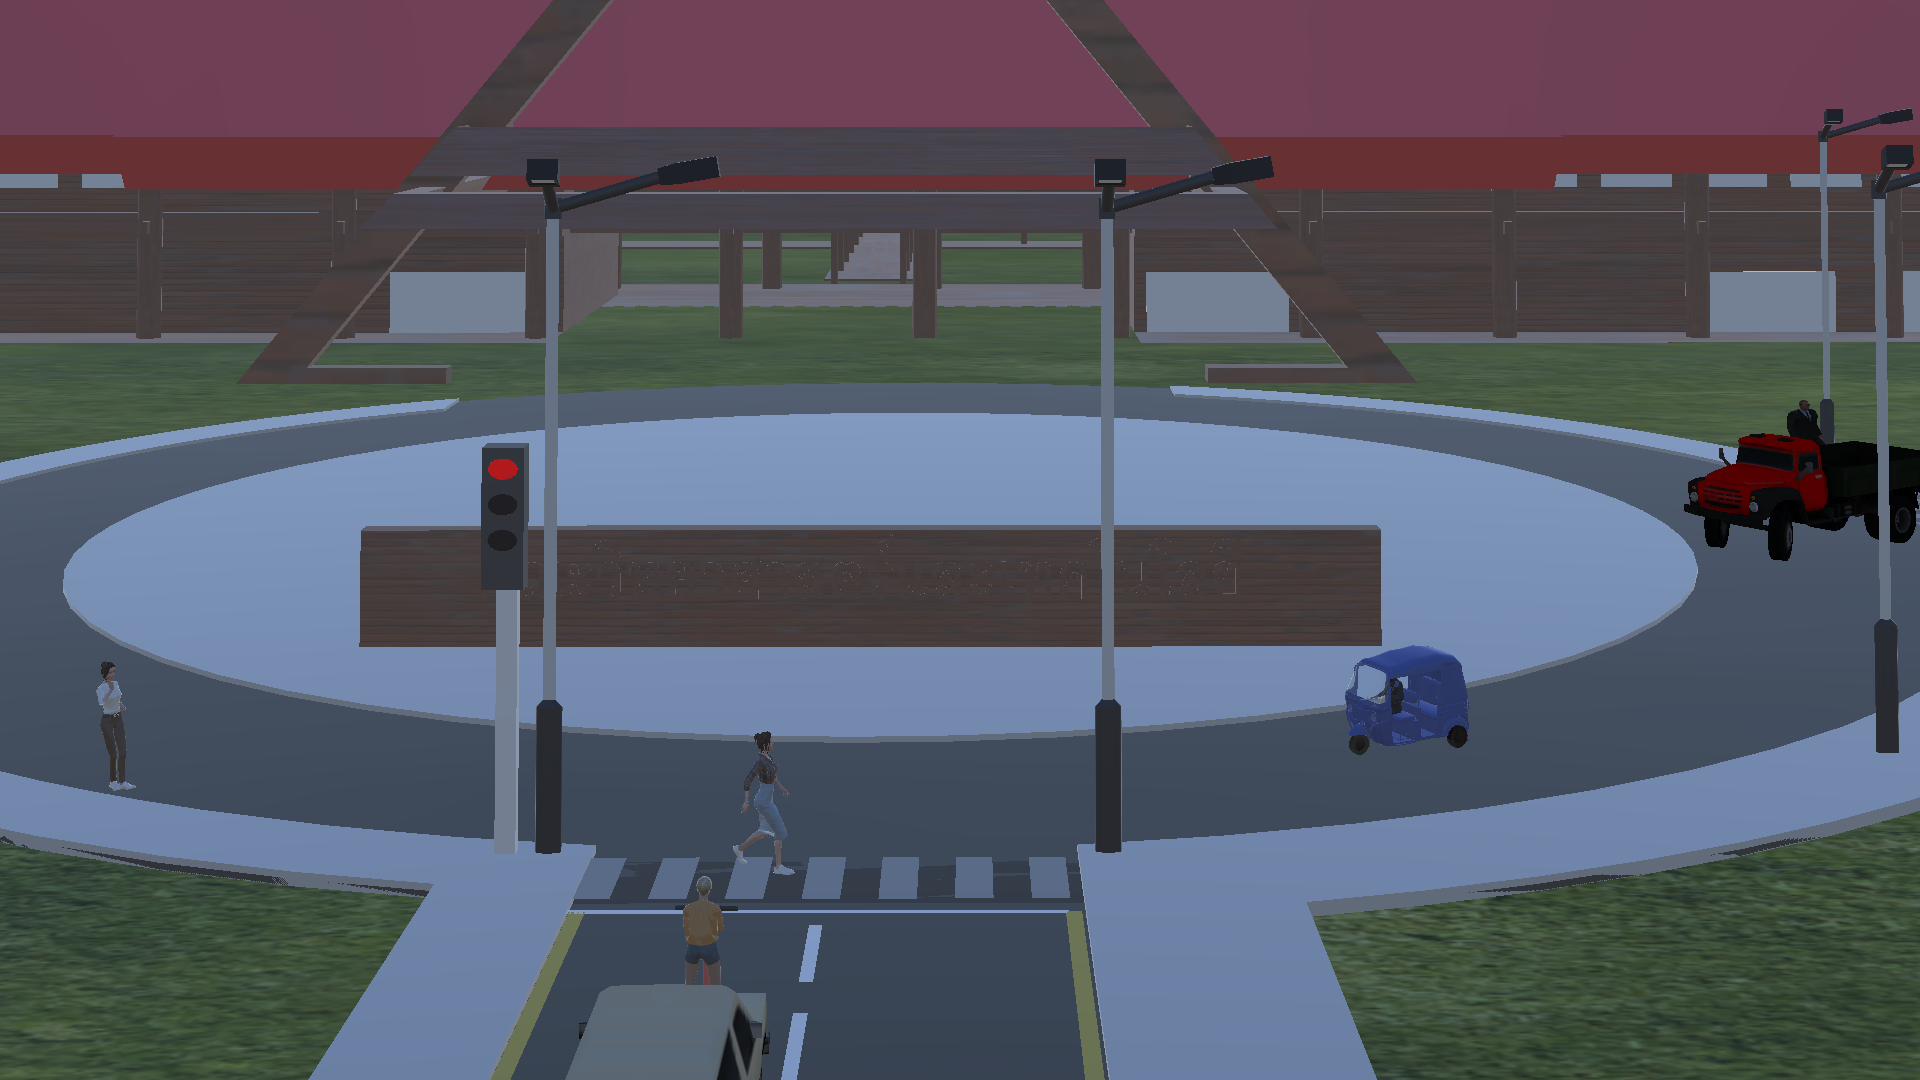pedestrian: (734, 726, 798, 875), (89, 655, 144, 792), (1782, 394, 1819, 440)
